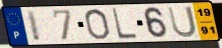6: (143, 5, 170, 40)
7: (51, 9, 74, 42)
I: (25, 10, 43, 43)
L: (110, 7, 139, 41)
O: (83, 8, 112, 41)
U: (167, 6, 199, 39)
